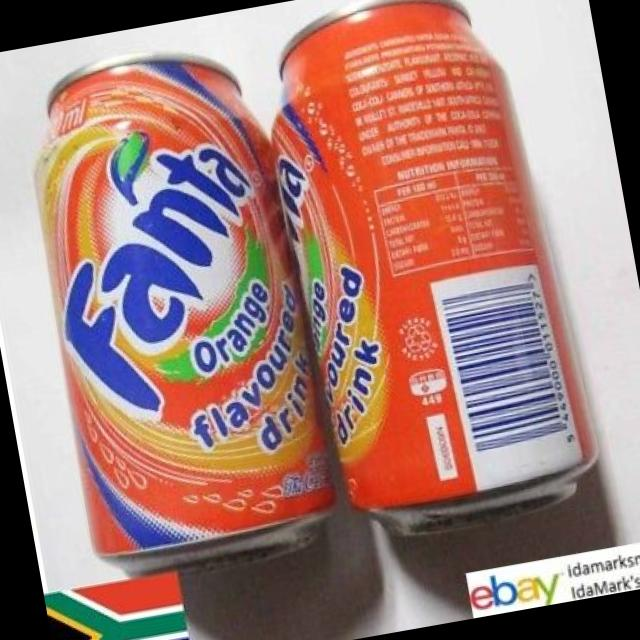fanta: (250, 0, 607, 545), (13, 35, 350, 594)
